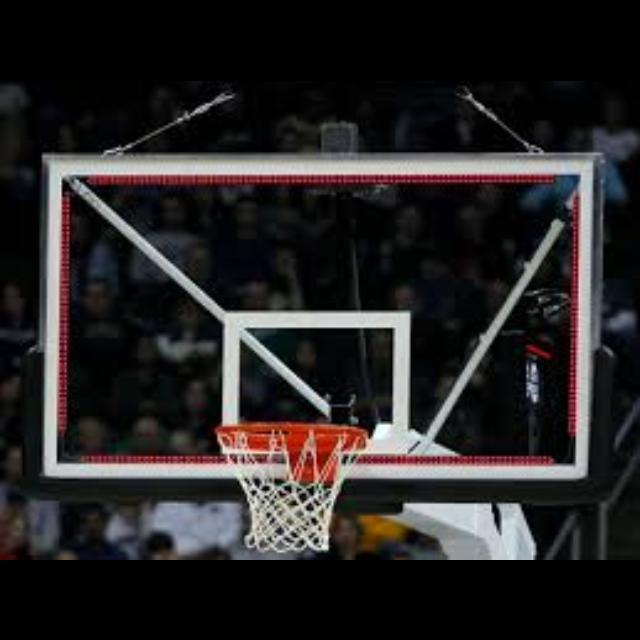rim: (215, 422, 367, 552)
